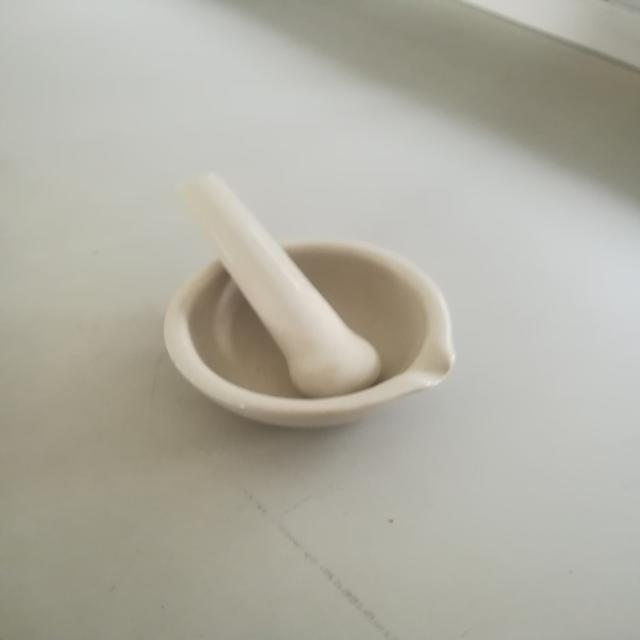Porcelain_Mortar Pestle: (110, 138, 514, 465)
